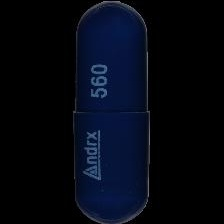42291-679: (0, 0, 224, 224)
